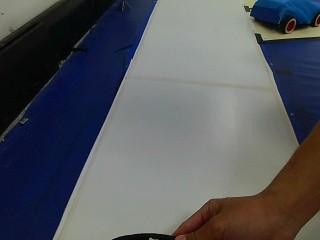car: (248, 0, 318, 37)
